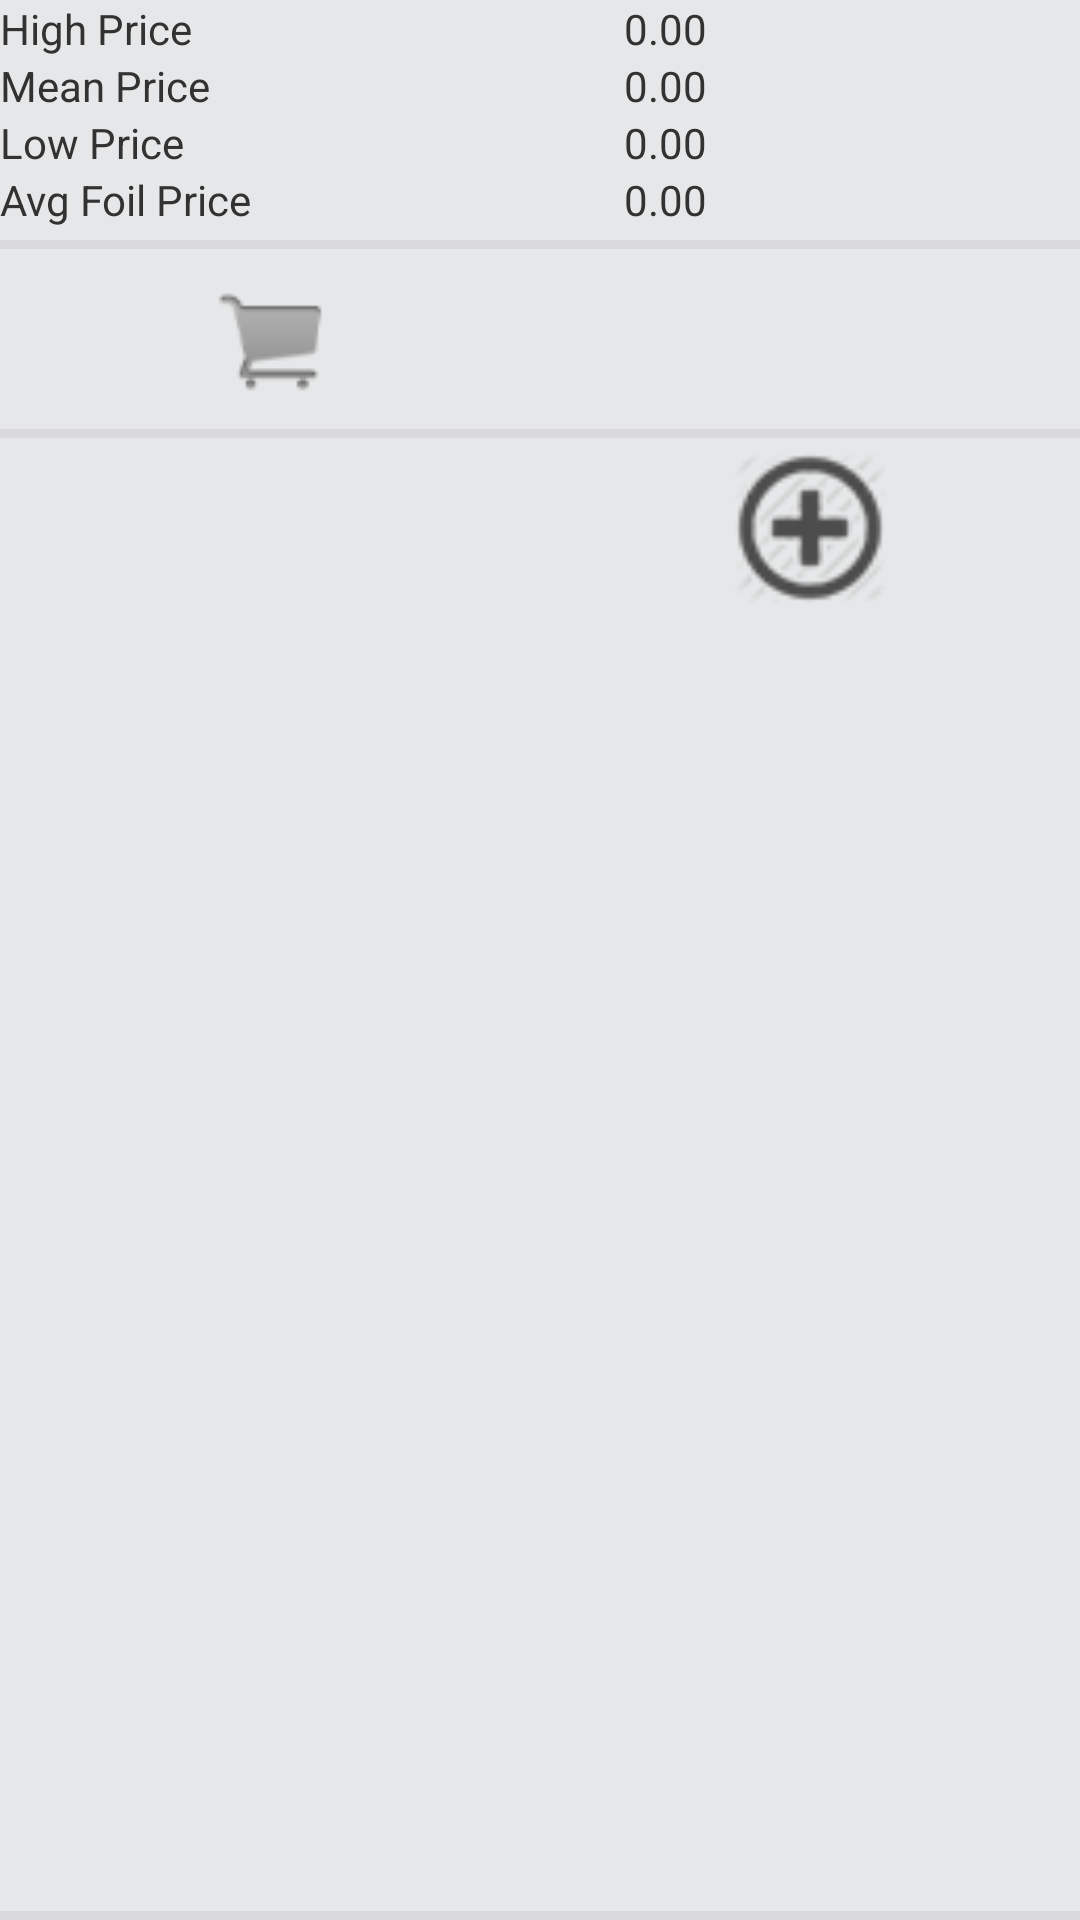

Screen size 1080px x 1920px. Icon name, then its center in pixels as point (x, y):
adddeckicon: point (810, 528)
shopping cart: point (270, 342)
